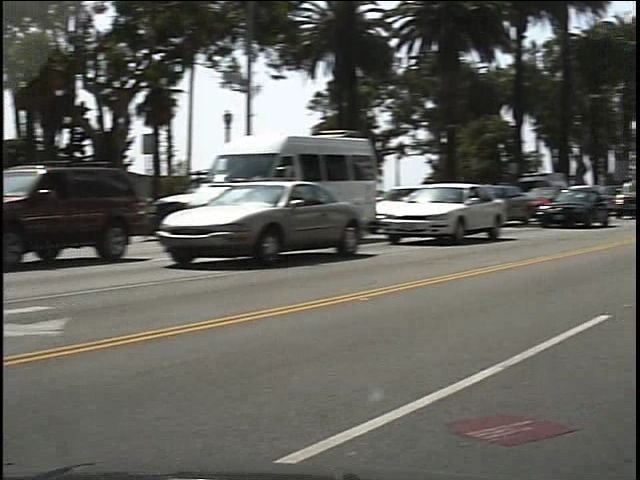car: (159, 178, 359, 263), (1, 156, 143, 263), (375, 182, 507, 246), (528, 180, 607, 234)
